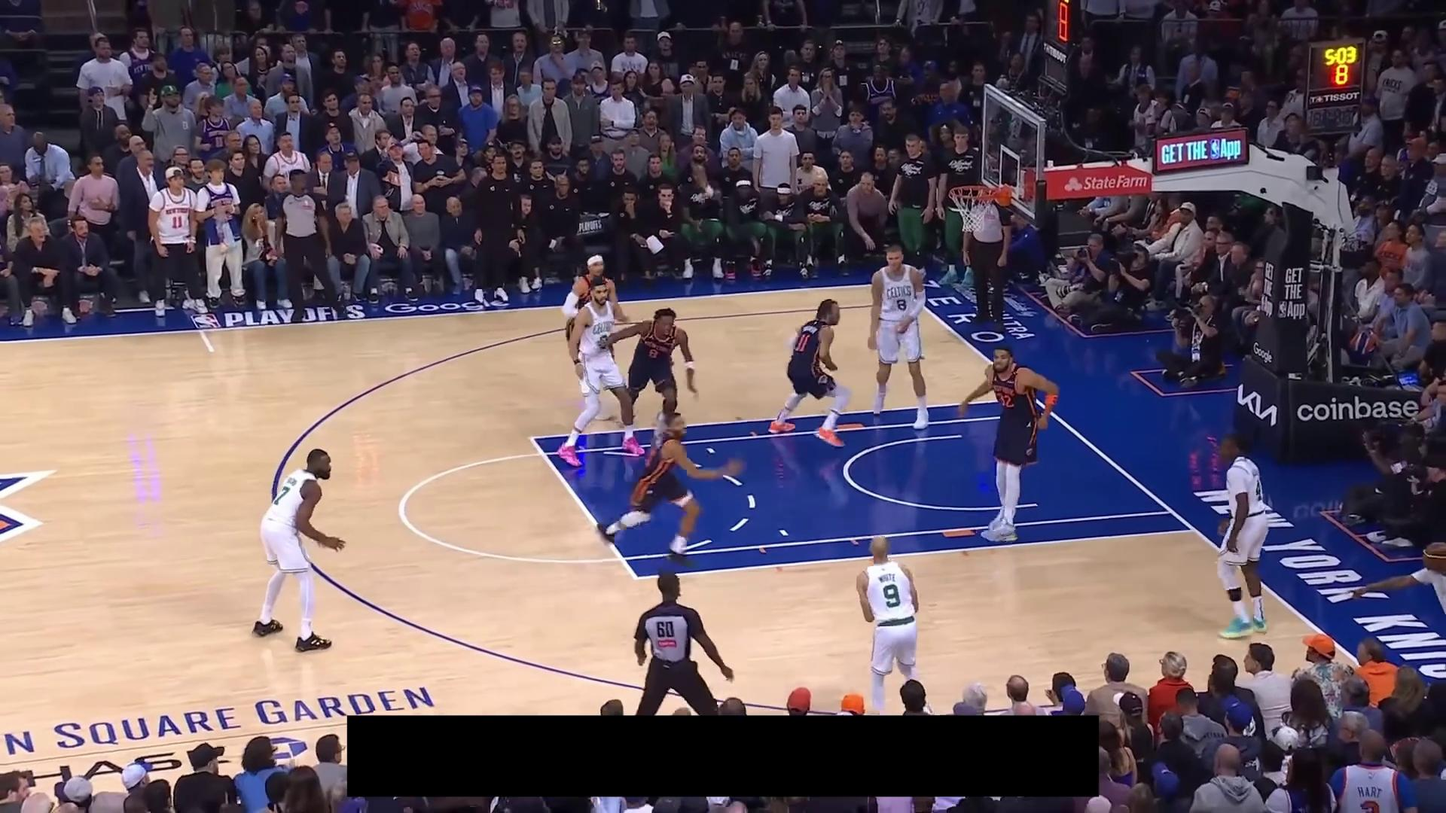number: (883, 584, 901, 609), (273, 486, 291, 506), (795, 332, 811, 353), (1254, 478, 1263, 501), (895, 297, 908, 312), (648, 347, 660, 360)
player: (594, 406, 745, 571), (958, 342, 1060, 543), (251, 447, 346, 653), (557, 279, 648, 469), (854, 534, 935, 715), (768, 297, 852, 449), (867, 239, 932, 431), (1213, 431, 1272, 641), (603, 306, 698, 427), (562, 253, 630, 421)
referee: (633, 571, 734, 716), (274, 169, 350, 323), (962, 193, 1011, 331)
rim: (948, 185, 997, 199)
